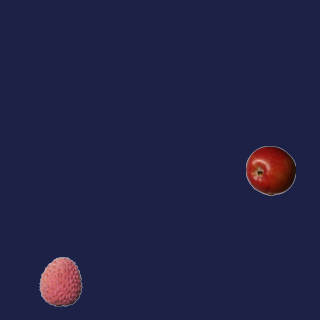Apple Braeburn: (245, 145, 295, 195)
Lychee: (35, 256, 85, 306)
